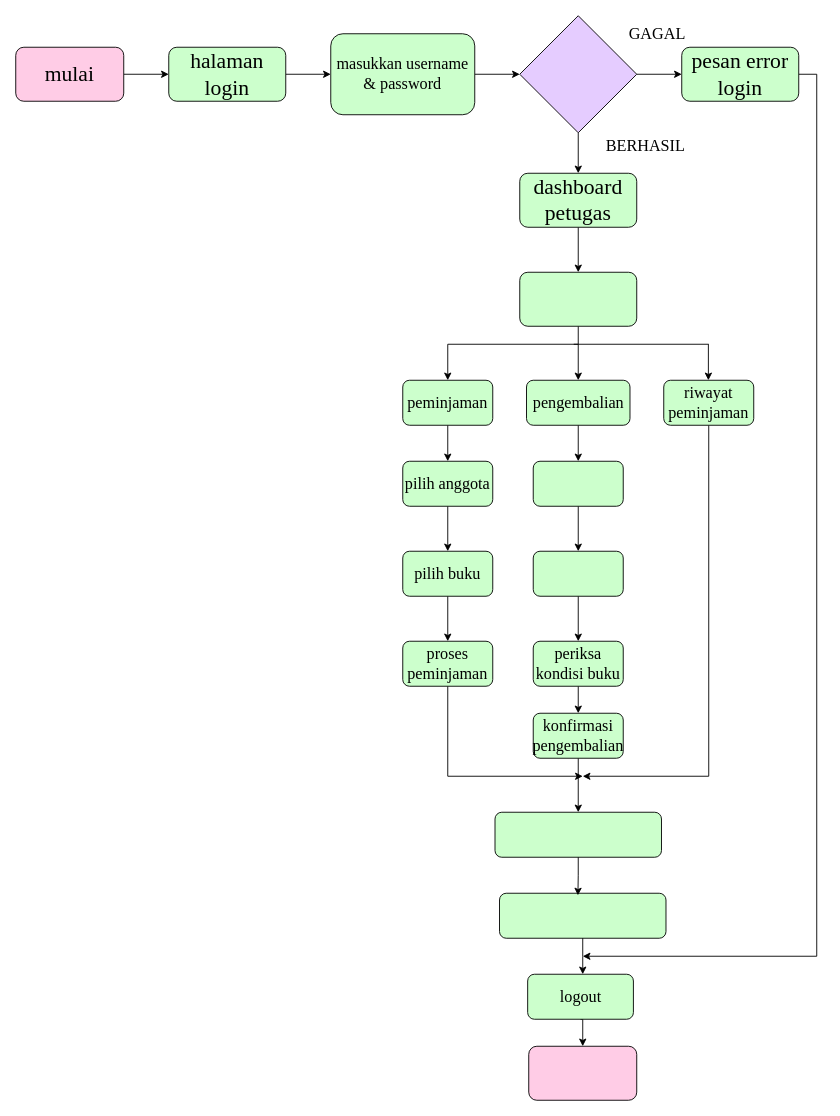
Image size: 840x1116. Some labels were removed from this diagram. The shapes that lost their labels are listed below. From the top down, each one's centre as x and y in pixels, then its label:
(578,74): validasi login
(578,298): pilih menu
(577,483): cari id peminjaman
(577,573): periksa data buku
(578,834): transaksi tersimpan
(582,915): kembali ke dashboard
(582,1072): selesai
